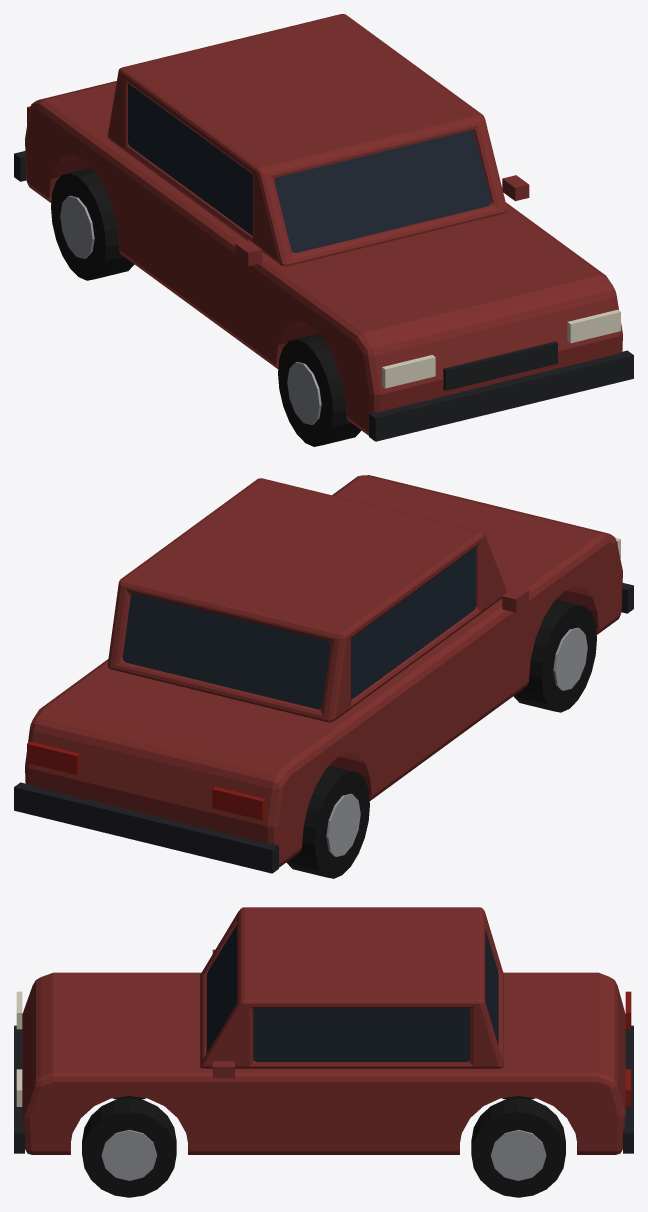
File: car.glb
The picture shows the model from 3 angles, top to bottom: view 1: azimuth 30°, elevation 25°; view 2: azimuth 150°, elevation 25°; view 3: azimuth 270°, elevation 25°; orthographic projection. The views are drawn at different scales.
Parts seen in each view (by area): view 1: car; view 2: car; view 3: car.
Part boxes in pixels (x1,y1,x2,y2): car: [14, 14, 633, 446]; car: [14, 475, 633, 878]; car: [14, 907, 633, 1197].
Bounding box in the file's own units: 2 × 1.5 × 4.46.
